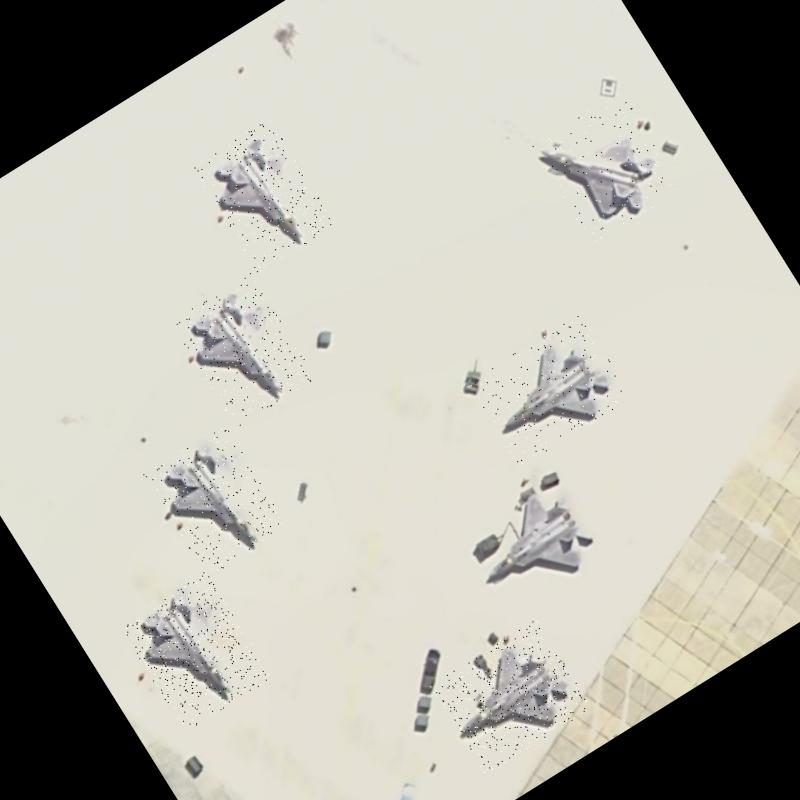A15: (466, 312, 632, 468), (454, 464, 618, 620), (430, 618, 592, 774), (118, 571, 272, 732), (531, 90, 684, 246), (143, 422, 290, 578), (170, 272, 316, 428), (192, 118, 336, 274)
